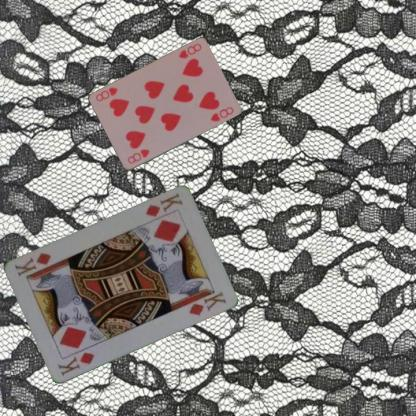8h: (176, 41, 202, 60), (125, 147, 151, 165)
Kd: (55, 350, 96, 377), (143, 191, 184, 218)
